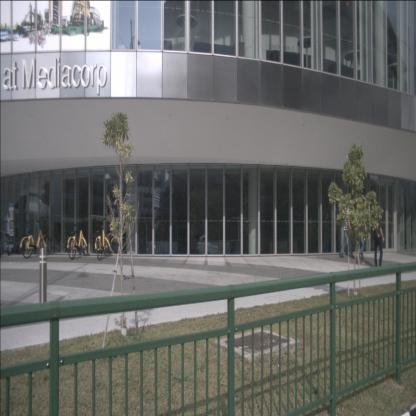human-pedestrian-adult: (339, 200, 354, 259), (372, 209, 385, 268), (355, 206, 367, 265)
vehicle-bicycle: (20, 218, 52, 258), (67, 219, 89, 260), (95, 216, 111, 260)
